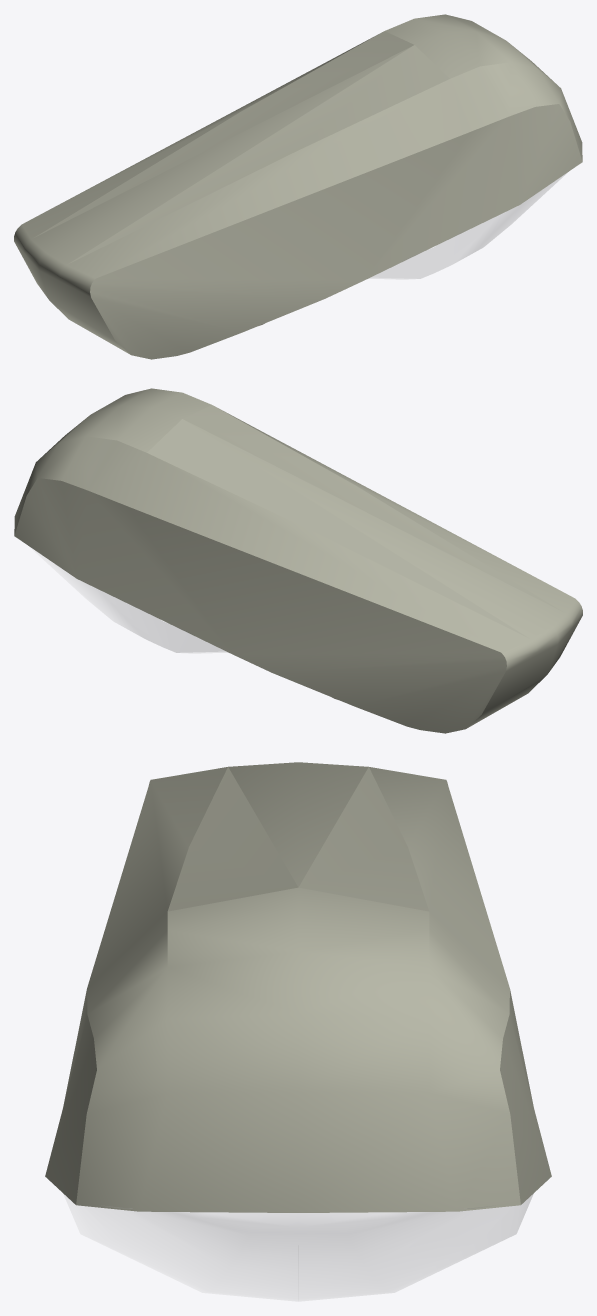
3 views of the same model, one above another, from view 1: azimuth 30°, elevation 25°; view 2: azimuth 150°, elevation 25°; view 3: azimuth 270°, elevation 25° (orthographic). The views are drawn at different scales.
Visible parts, largest first — view 1: BezierCurve.006, BezierCurve.004; view 2: BezierCurve.006, BezierCurve.004; view 3: BezierCurve.006, BezierCurve.004.
Part boxes in pixels (box(x1,y1,x2,y2)): BezierCurve.006: box(14, 14, 582, 359); BezierCurve.004: box(259, 173, 566, 325); BezierCurve.006: box(14, 388, 582, 733); BezierCurve.004: box(30, 547, 337, 699); BezierCurve.006: box(45, 762, 551, 1212); BezierCurve.004: box(64, 1195, 532, 1301).
Size of the model in its own units: 0.7943 by 0.3232 by 0.3438.
3 materials, 2 textured.
